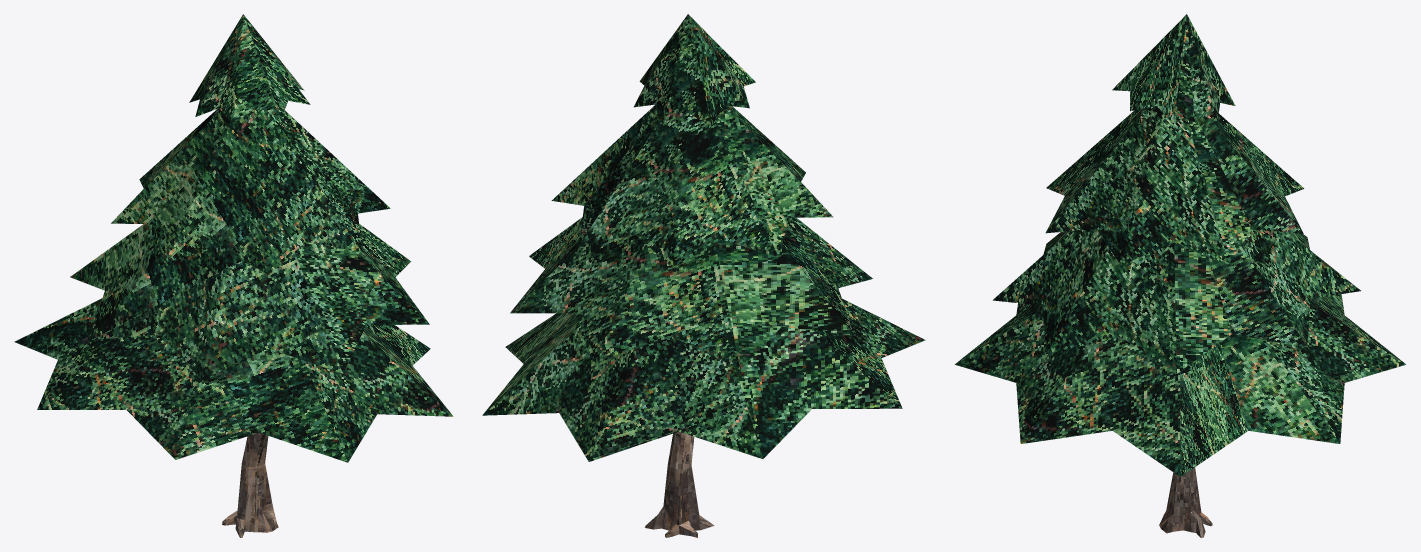
The model's file is alpine_tree_1.gltf.
The picture shows the model from 3 angles, left to right: view 1: azimuth 30°, elevation 25°; view 2: azimuth 150°, elevation 25°; view 3: azimuth 270°, elevation 25°; orthographic projection.
Visible parts, largest first — view 1: PineLeaves.005, PineLeaves.003, PineLeaves.001, PineLeaves, Trunk-col; view 2: PineLeaves.005, PineLeaves.003, PineLeaves.001, PineLeaves, Trunk-col; view 3: PineLeaves.005, PineLeaves.003, PineLeaves.001, PineLeaves, Trunk-col.
Boxes of the visible parts, x1=… form: PineLeaves.005: x1=14, y1=298, x2=453, y2=462; PineLeaves.003: x1=70, y1=223, x2=429, y2=380; PineLeaves.001: x1=111, y1=108, x2=390, y2=274; PineLeaves: x1=189, y1=14, x2=310, y2=123; Trunk-col: x1=222, y1=432, x2=278, y2=537; PineLeaves.005: x1=482, y1=298, x2=925, y2=461; PineLeaves.003: x1=510, y1=217, x2=872, y2=369; PineLeaves.001: x1=551, y1=105, x2=833, y2=268; PineLeaves: x1=634, y1=14, x2=755, y2=126; Trunk-col: x1=644, y1=431, x2=714, y2=537; PineLeaves.005: x1=955, y1=294, x2=1405, y2=476; PineLeaves.003: x1=992, y1=229, x2=1360, y2=373; PineLeaves.001: x1=1045, y1=106, x2=1304, y2=265; PineLeaves: x1=1112, y1=14, x2=1235, y2=124; Trunk-col: x1=1159, y1=467, x2=1212, y2=537.
Size of the model in its own units: 10.41 by 12.93 by 10.45.
2 materials, 2 textured.
